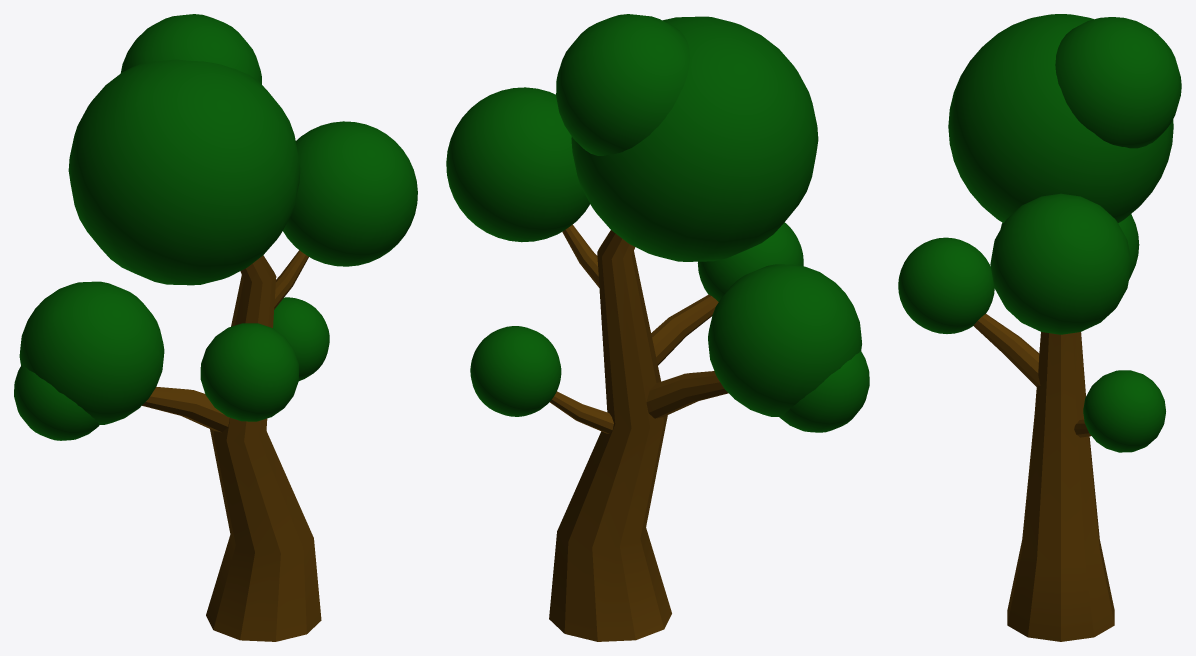
The model's file is tree_2.fbx.
The picture shows the model from 3 angles, left to right: view 1: azimuth 30°, elevation 25°; view 2: azimuth 150°, elevation 25°; view 3: azimuth 270°, elevation 25°; orthographic projection. The views are drawn at different scales.
Visible parts, largest first — view 1: tree_02_pCylinder20; view 2: tree_02_pCylinder20; view 3: tree_02_pCylinder20.
Boxes of the visible parts, left/top/right/bottom form: tree_02_pCylinder20: left=14, top=14, right=417, bottom=641; tree_02_pCylinder20: left=446, top=14, right=869, bottom=641; tree_02_pCylinder20: left=898, top=14, right=1181, bottom=641.
Bounding box in the file's own units: 8.92 × 13.07 × 5.86.
